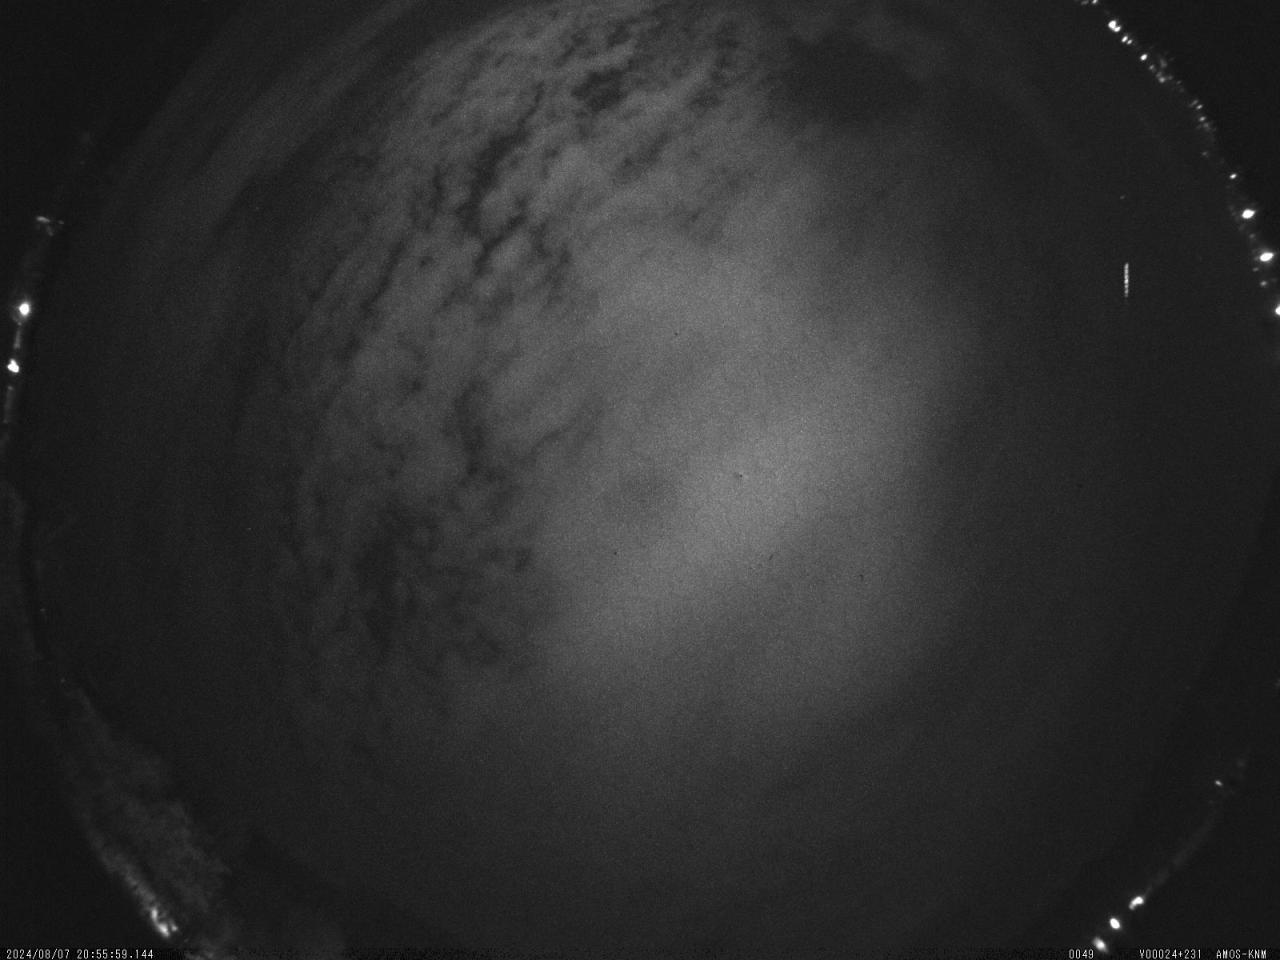Meteor: (1118, 255, 1134, 304)
